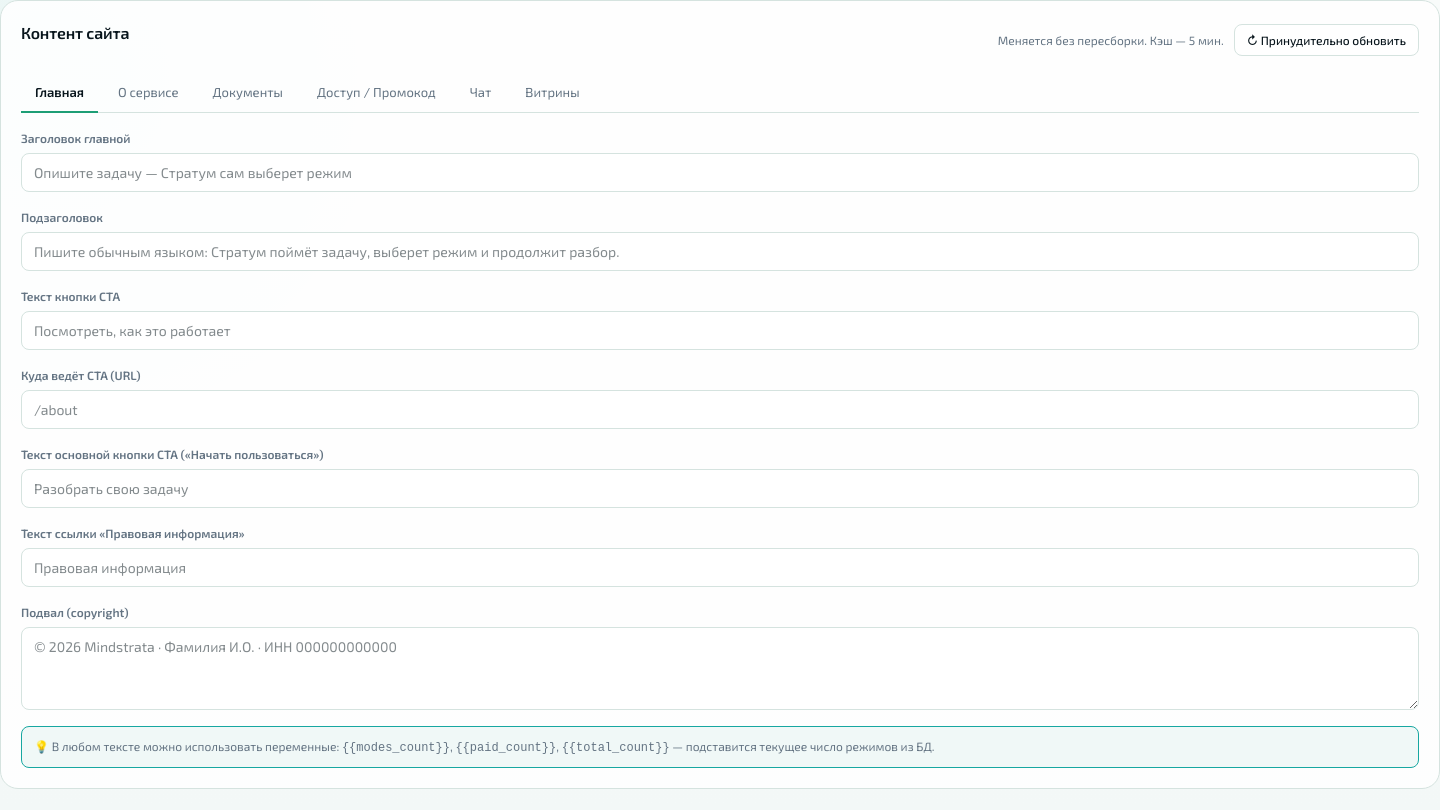
Test: AdminContentTab — auto-save flow › статус ✓ сохранено показывается после успеха
This screenshot has width=1440, height=810.
In the field with placeholder "Опишите задачу — Стратум сам выберет режим": (720, 172) [21,152,1419,192], type "X"
Wait 5000 ms
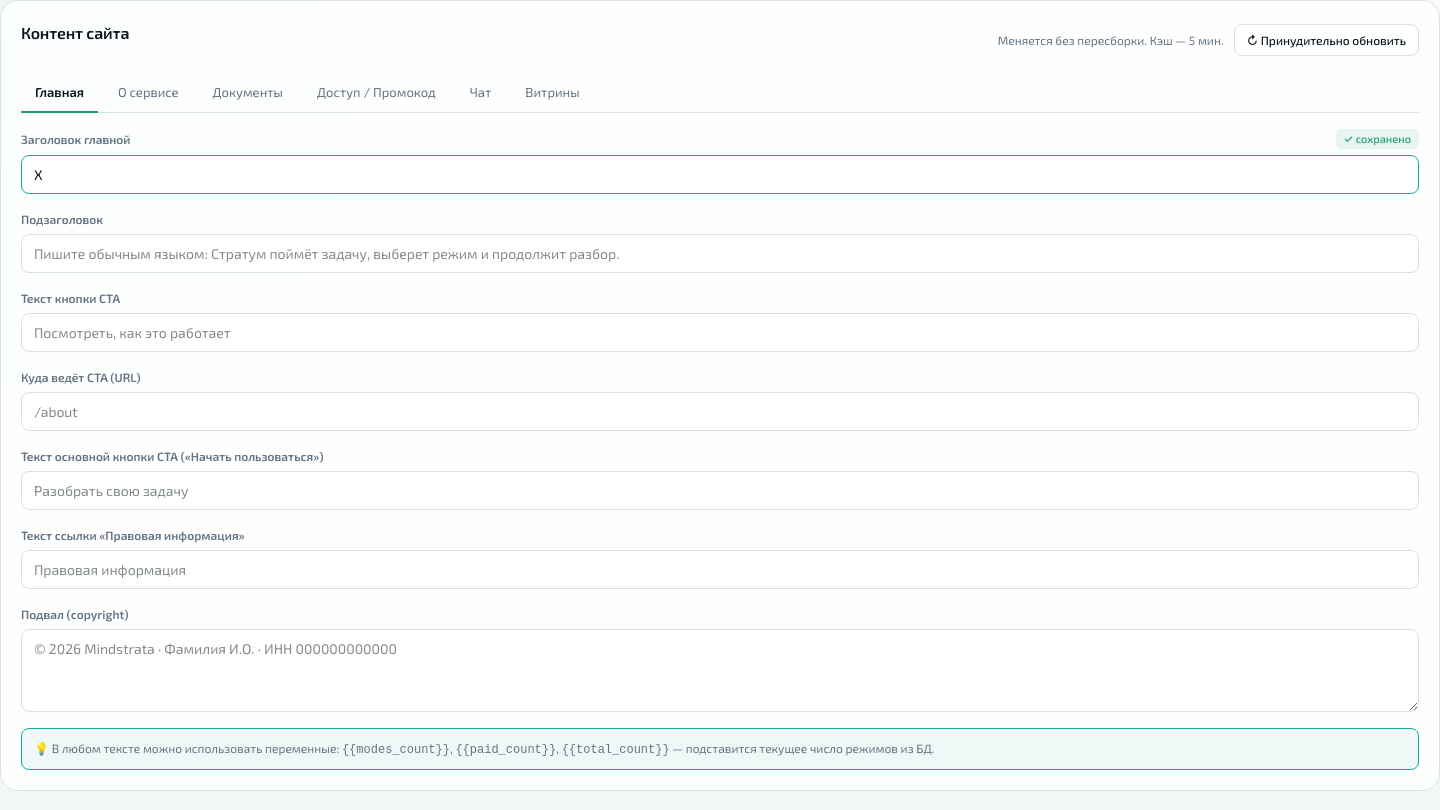
Check: the text "✓ сохранено" is shown, box [1336,128,1419,149]
